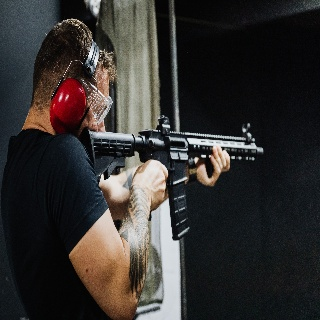rifle: (81, 114, 265, 241)
